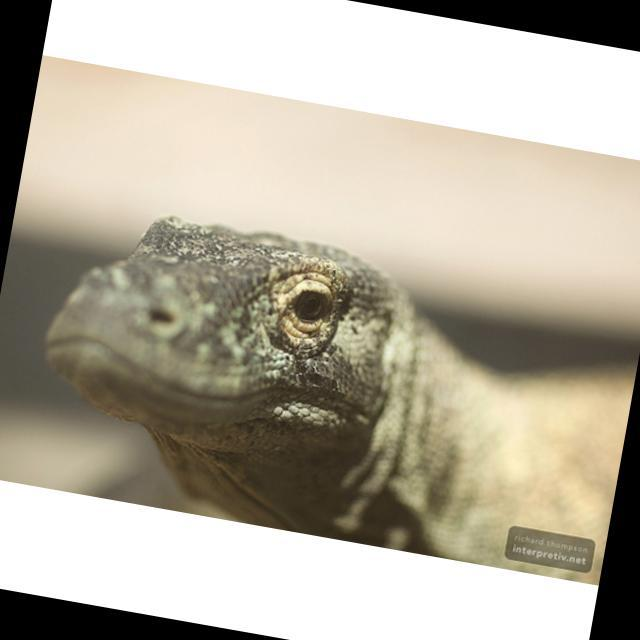KomodoDragon: (19, 193, 640, 576)
